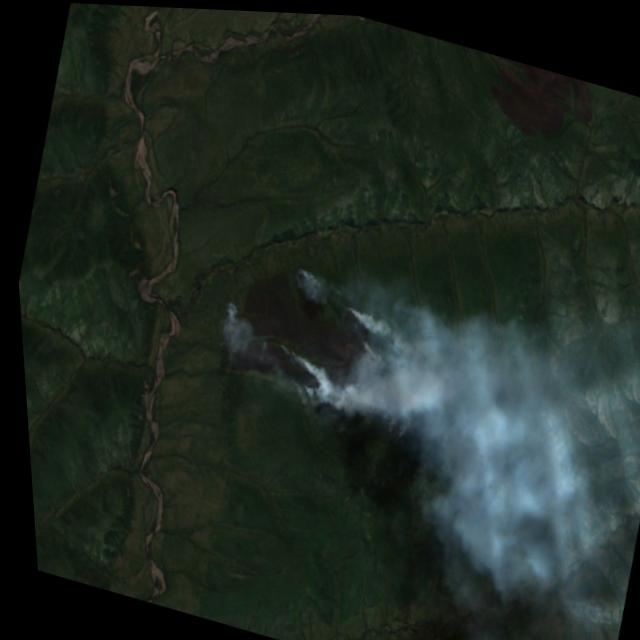fire: (196, 241, 443, 446)
